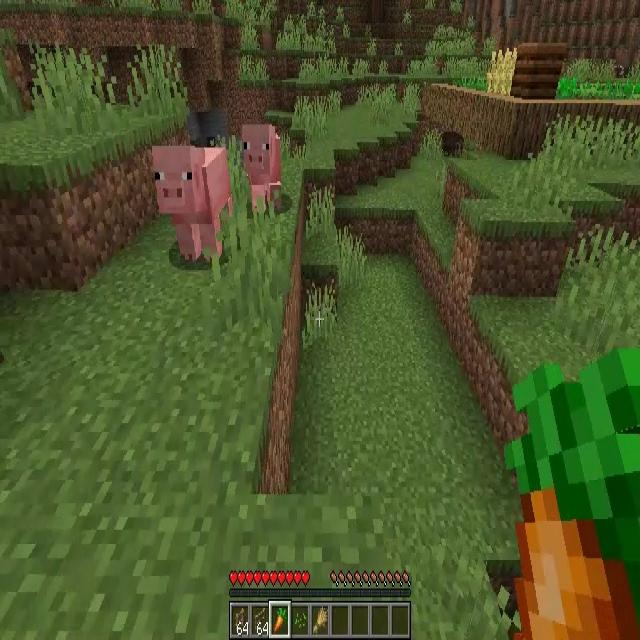pig: (152, 147, 234, 259), (242, 126, 282, 213)
